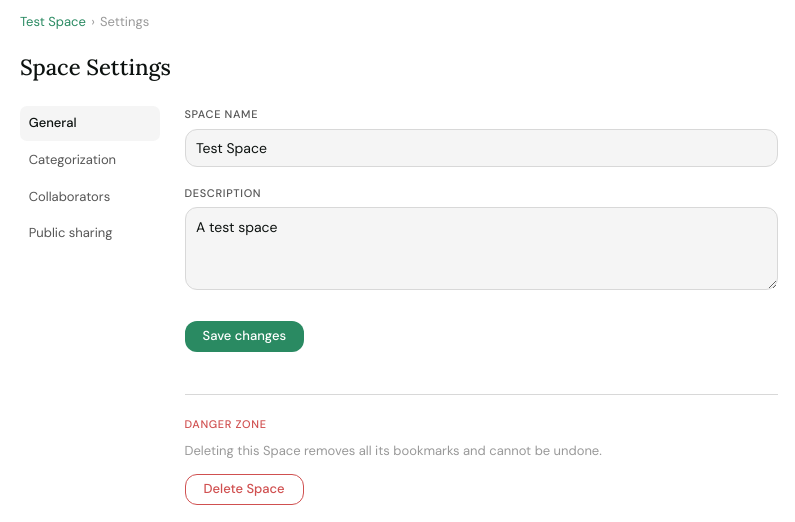
SpaceSettings › Rules section › clicking Categorization tab shows rules section
Step 1. Click the button "Categorization" → point(90, 160), box top-left (20, 143), bottom-right (160, 178)
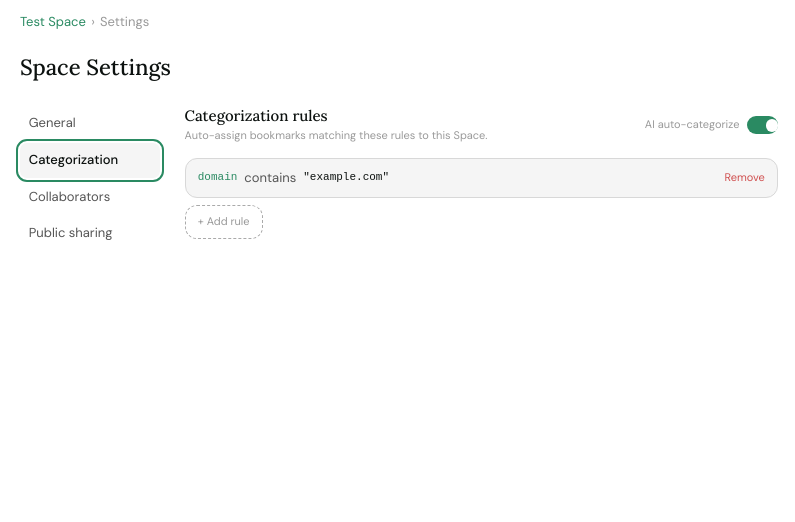
Now the heading "Categorization rules" is shown, box top-left (184, 106), bottom-right (328, 126)
